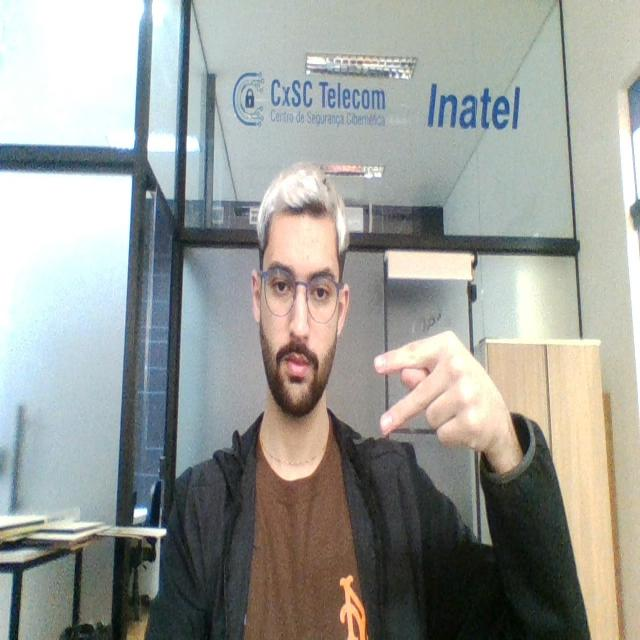P: (366, 317, 514, 471)
